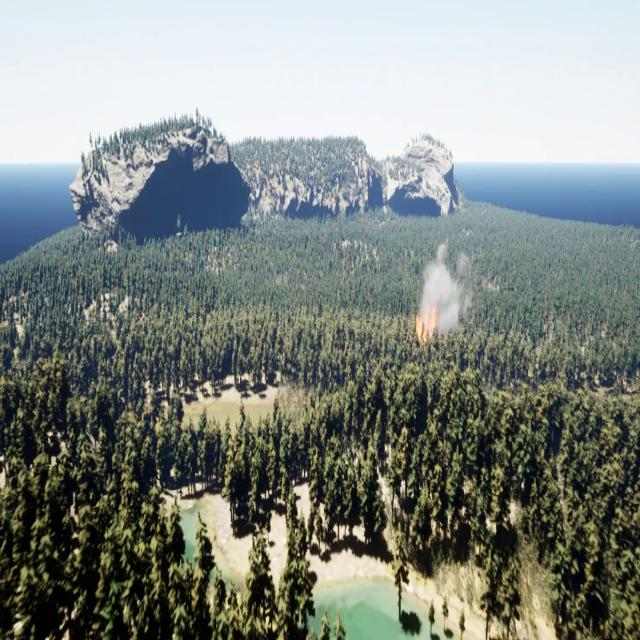fire: (415, 306, 438, 346)
smoke: (420, 242, 472, 342)
